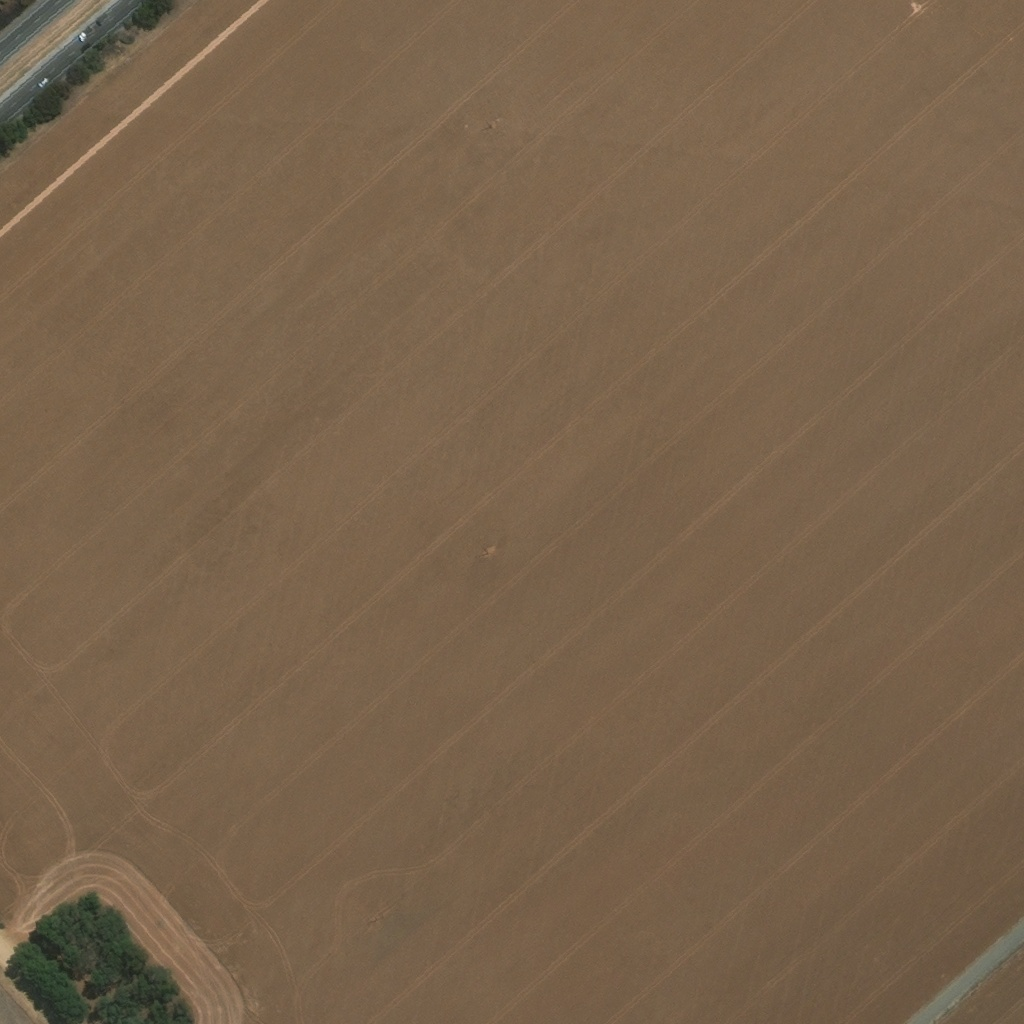4 un-classified: (183, 909, 194, 920)
